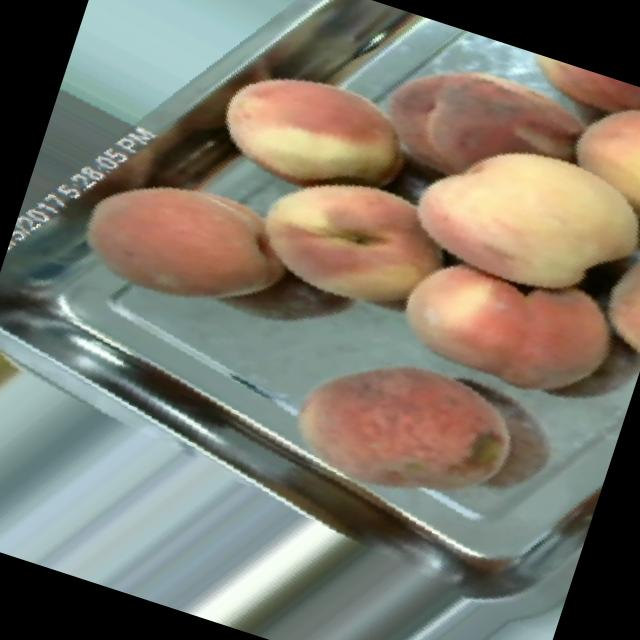Fruit: (252, 313, 552, 562), (375, 75, 640, 315), (218, 126, 489, 359), (46, 128, 322, 356), (361, 233, 640, 449), (182, 28, 444, 244), (480, 41, 640, 170), (561, 199, 640, 395)
